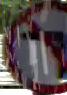Don't turn left: (3, 3, 66, 91)
